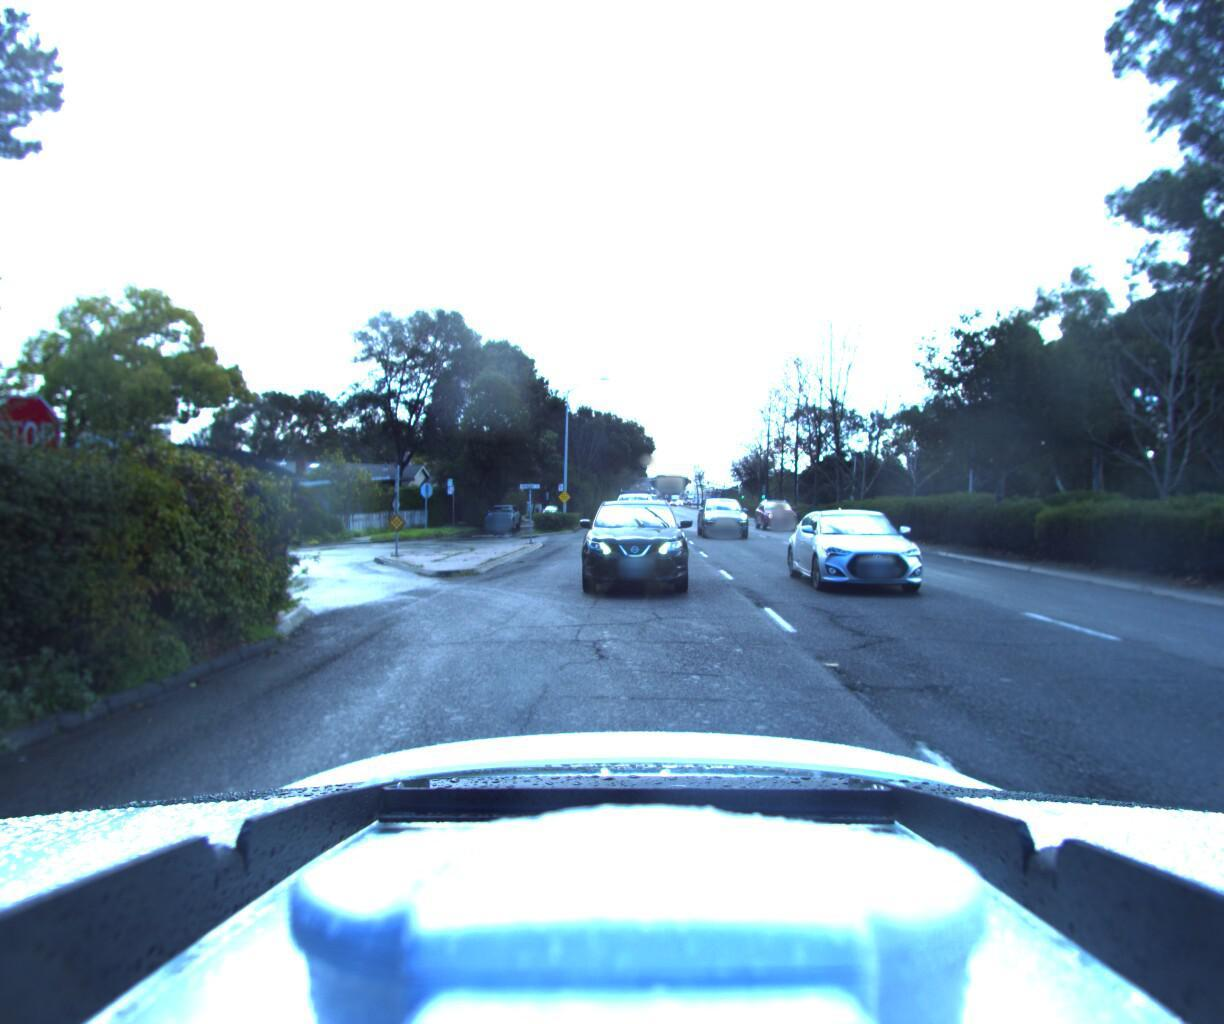car: (792, 508, 980, 613), (568, 499, 691, 606), (691, 506, 757, 550), (608, 496, 658, 540), (752, 504, 802, 539), (474, 509, 521, 535)
